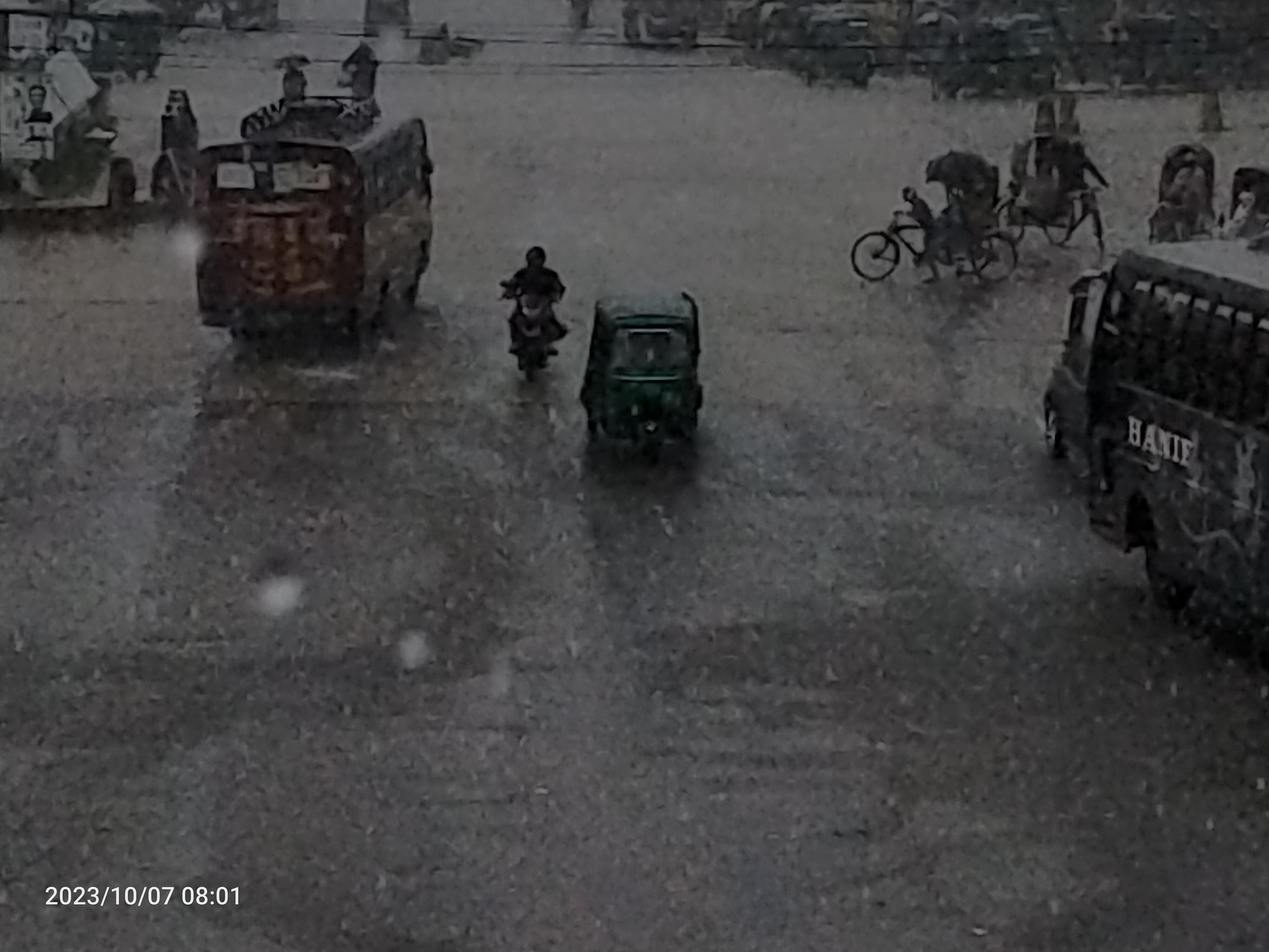Bike: (483, 228, 579, 414)
Bus: (1063, 225, 1269, 622), (175, 81, 468, 355)
Car: (832, 149, 1021, 305), (1002, 122, 1120, 263), (1136, 131, 1230, 258)
